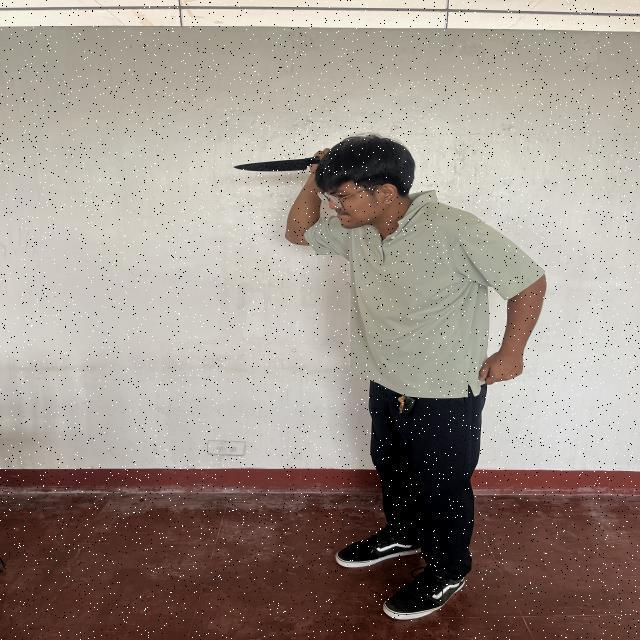knife: (236, 160, 321, 172)
non-violence: (234, 138, 544, 618)
